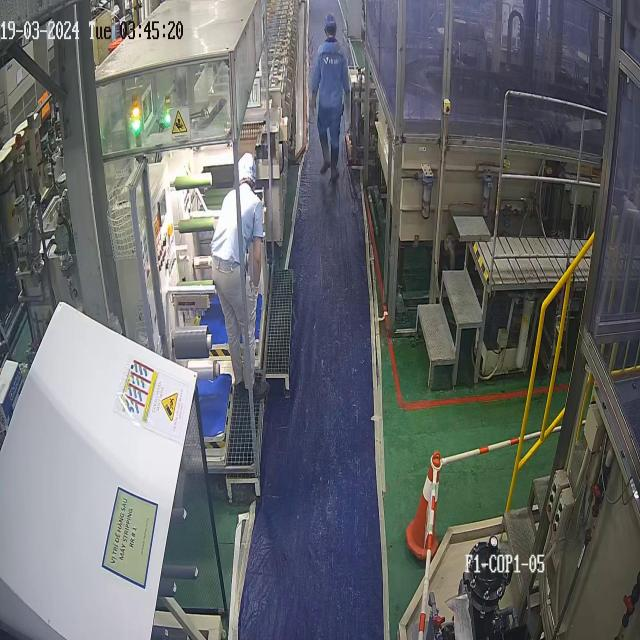Person: (210, 151, 270, 400), (309, 12, 352, 181)
